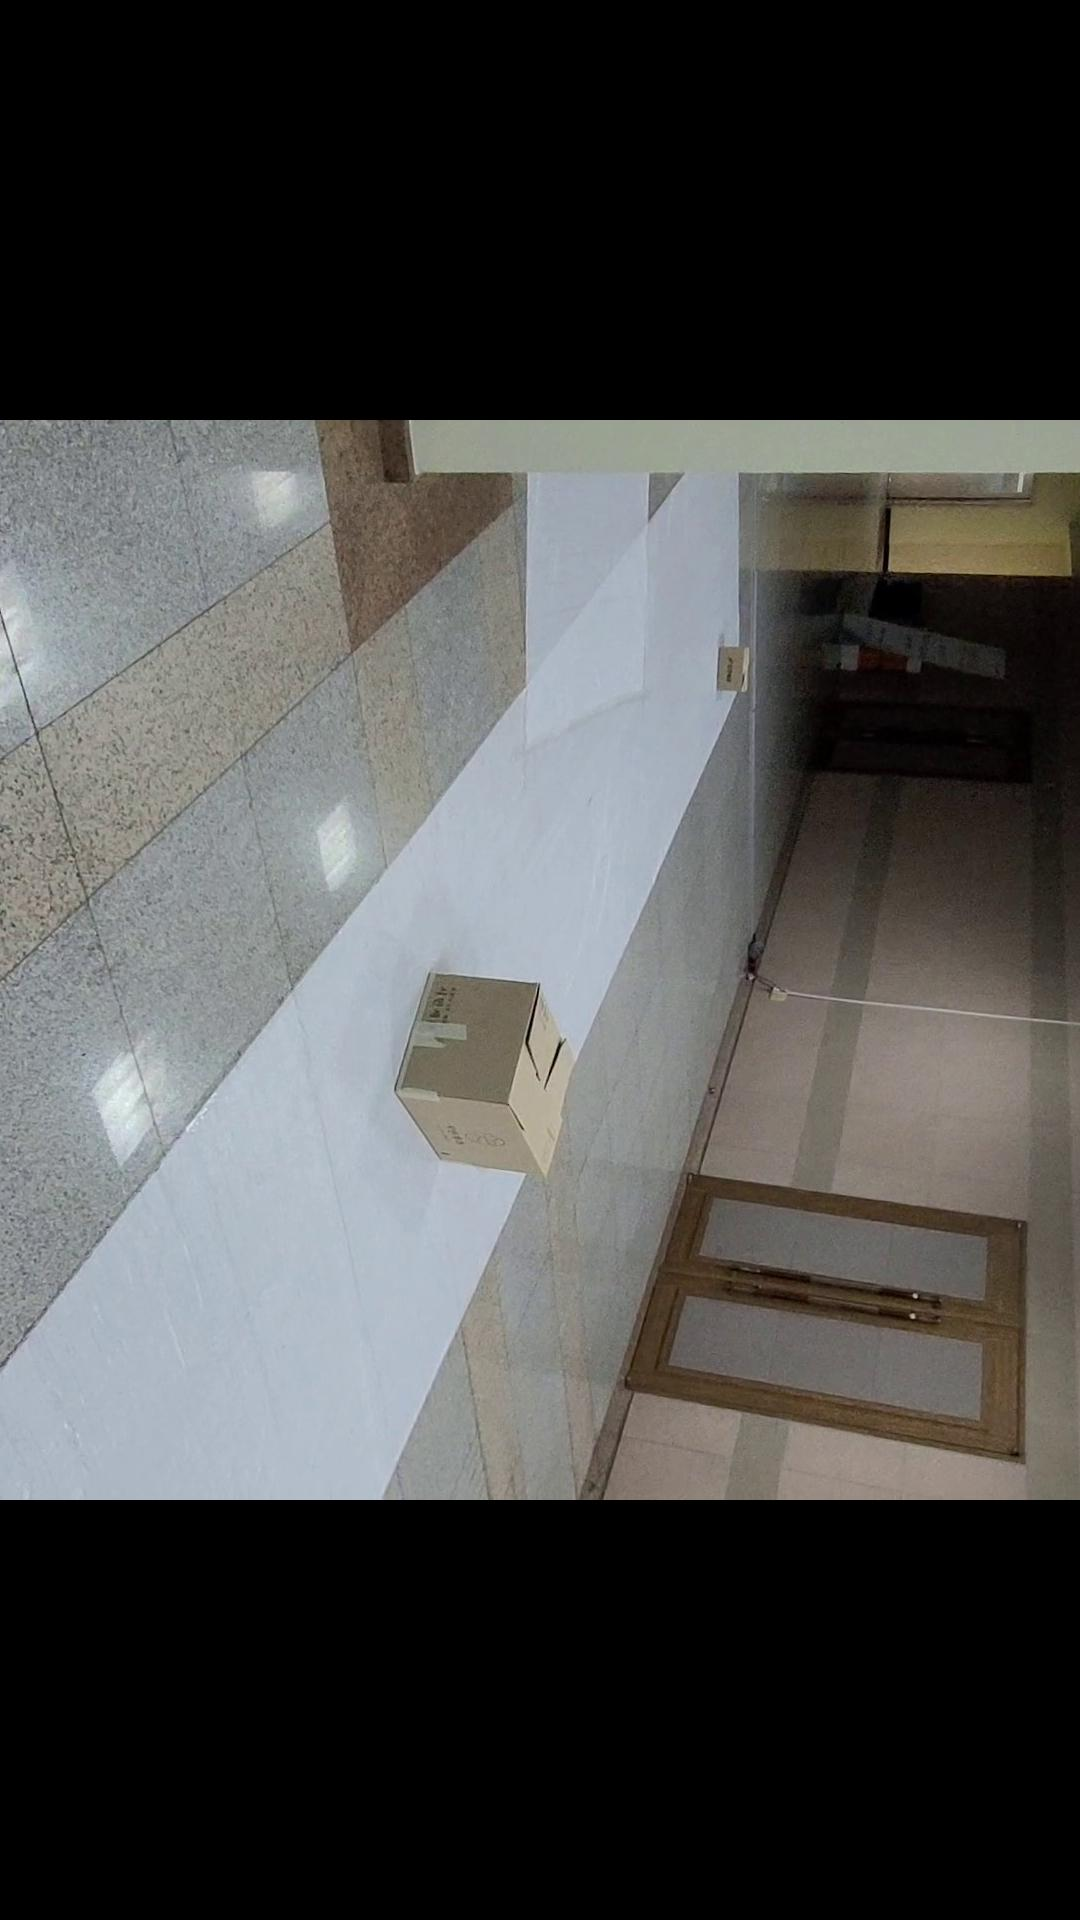Box: (380, 906, 585, 1217)
